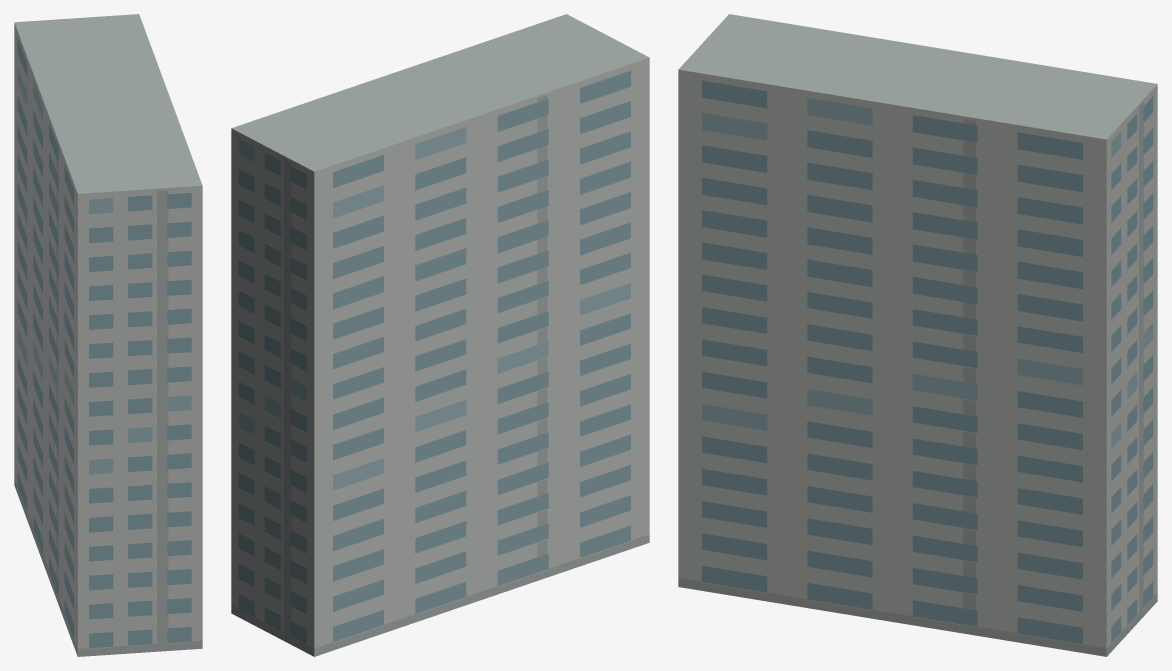
File: residential-6d7dfdaa-ab7f-4e5b-9110-75b5fa78e09a.glb
The picture shows the model from 3 angles, left to right: view 1: azimuth 30°, elevation 25°; view 2: azimuth 150°, elevation 25°; view 3: azimuth 270°, elevation 25°; orthographic projection. The views are drawn at different scales.
Parts seen in each view (by area): view 1: residential-6d7dfdaa-ab7f-4e5b-9110-75b5fa78e09a.tmp; view 2: residential-6d7dfdaa-ab7f-4e5b-9110-75b5fa78e09a.tmp; view 3: residential-6d7dfdaa-ab7f-4e5b-9110-75b5fa78e09a.tmp.
Part boxes in pixels (left/top/right/bottom): residential-6d7dfdaa-ab7f-4e5b-9110-75b5fa78e09a.tmp: left=14, top=14, right=202, bottom=656; residential-6d7dfdaa-ab7f-4e5b-9110-75b5fa78e09a.tmp: left=231, top=14, right=649, bottom=656; residential-6d7dfdaa-ab7f-4e5b-9110-75b5fa78e09a.tmp: left=678, top=14, right=1157, bottom=656.
Size of the model in its own units: 26.04 by 50 by 41.99.
